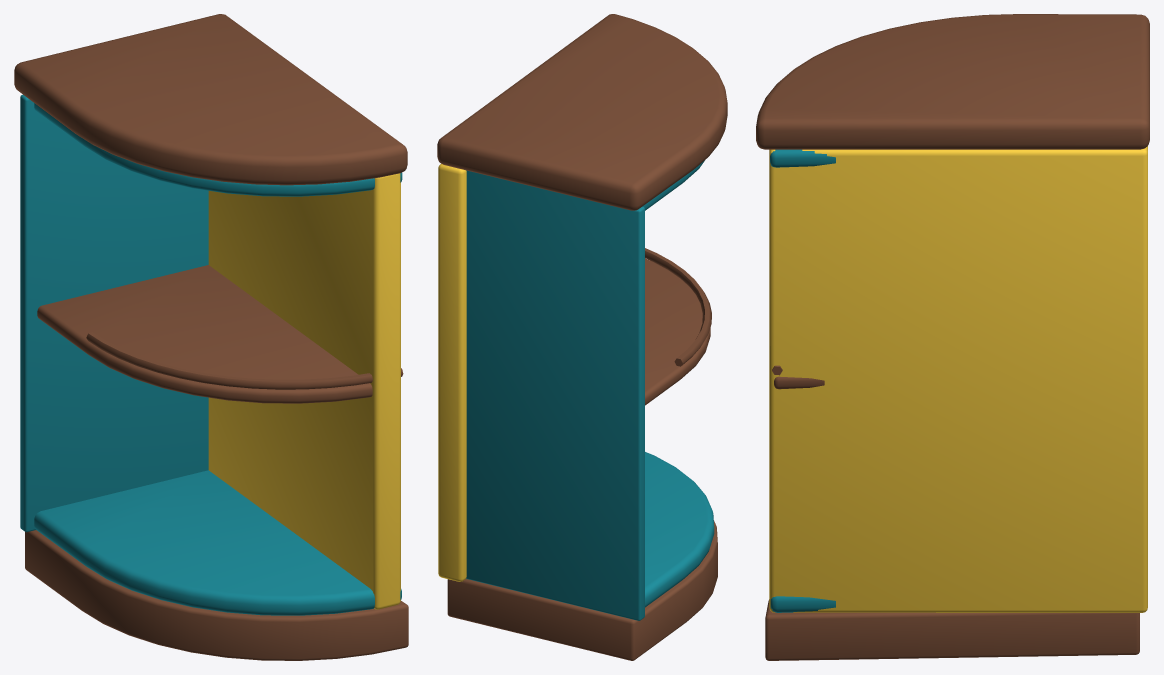
The model's file is armario_cozinha_ponta_curva_colonial.glb.
The picture shows the model from 3 angles, left to right: view 1: azimuth 30°, elevation 25°; view 2: azimuth 150°, elevation 25°; view 3: azimuth 270°, elevation 25°; orthographic projection. The views are drawn at different scales.
Parts seen in each view (by area): view 1: armario_cozinha_ponta_curva_colonial; view 2: armario_cozinha_ponta_curva_colonial; view 3: armario_cozinha_ponta_curva_colonial.
Part boxes in pixels (left/top/right/bottom): armario_cozinha_ponta_curva_colonial: left=14, top=14, right=408, bottom=660; armario_cozinha_ponta_curva_colonial: left=437, top=14, right=727, bottom=660; armario_cozinha_ponta_curva_colonial: left=756, top=14, right=1149, bottom=660.
Size of the model in its own units: 0.4065 by 0.9 by 0.5971.
Materials: 1 (1 with a texture image).
